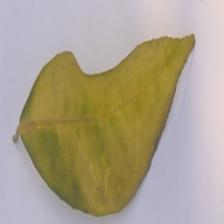greening: (8, 30, 200, 198)
